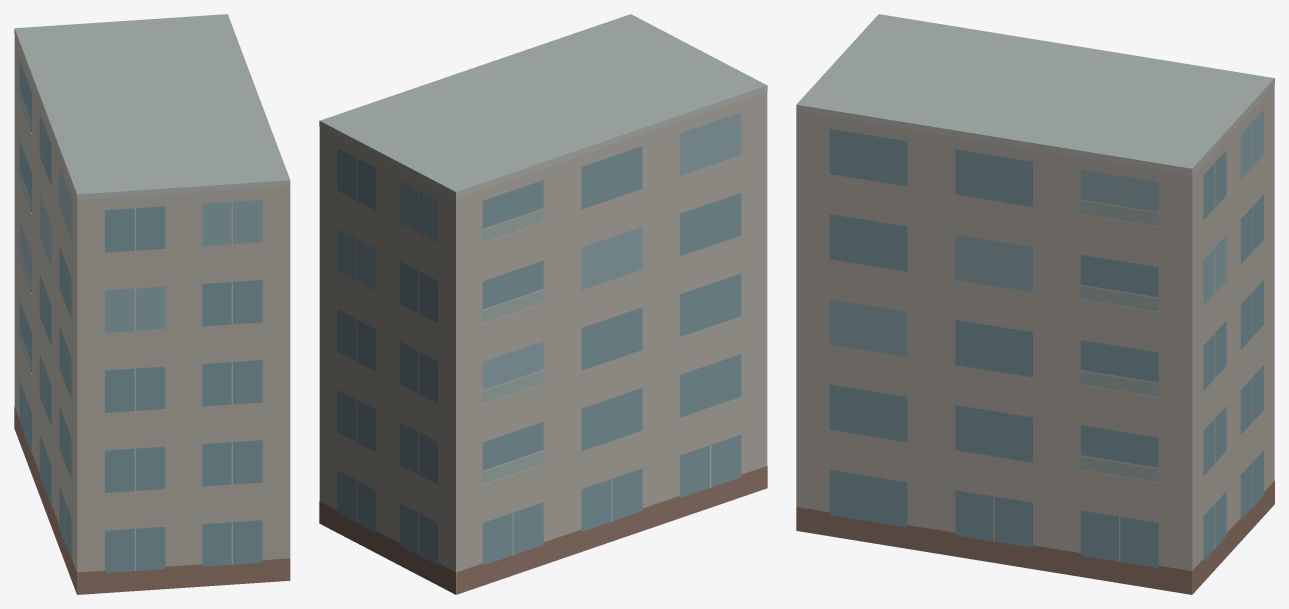
File: survey-upis-32886674.glb
The picture shows the model from 3 angles, left to right: view 1: azimuth 30°, elevation 25°; view 2: azimuth 150°, elevation 25°; view 3: azimuth 270°, elevation 25°; orthographic projection. The views are drawn at different scales.
Visible parts, largest first — view 1: survey-upis-32886674.tmp; view 2: survey-upis-32886674.tmp; view 3: survey-upis-32886674.tmp.
Part boxes in pixels (bbox=[...]): survey-upis-32886674.tmp: bbox=[14, 14, 290, 594]; survey-upis-32886674.tmp: bbox=[319, 14, 767, 594]; survey-upis-32886674.tmp: bbox=[796, 14, 1274, 594].
Bounding box in the file's own units: 12.55 × 16.1 × 16.39.
